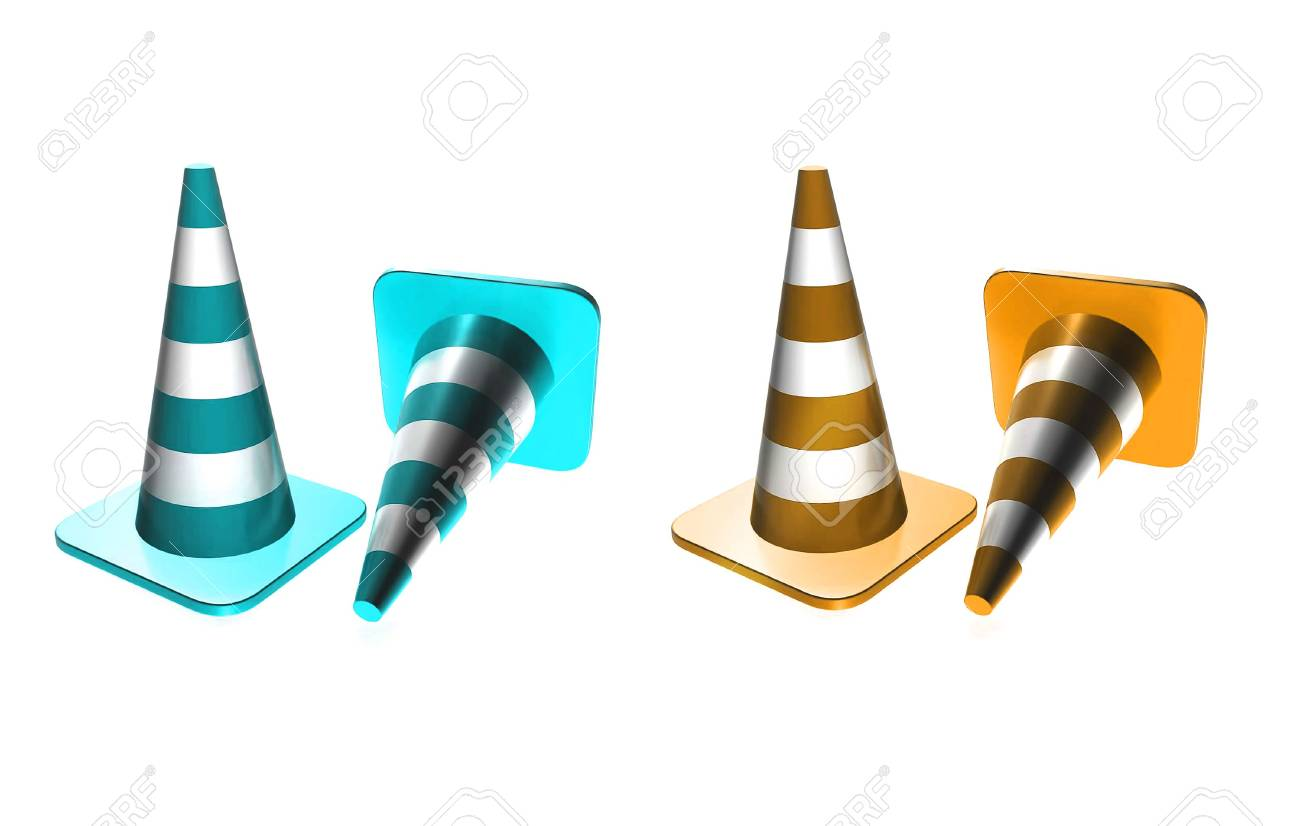blueC: (44, 151, 349, 612), (352, 257, 598, 653)
